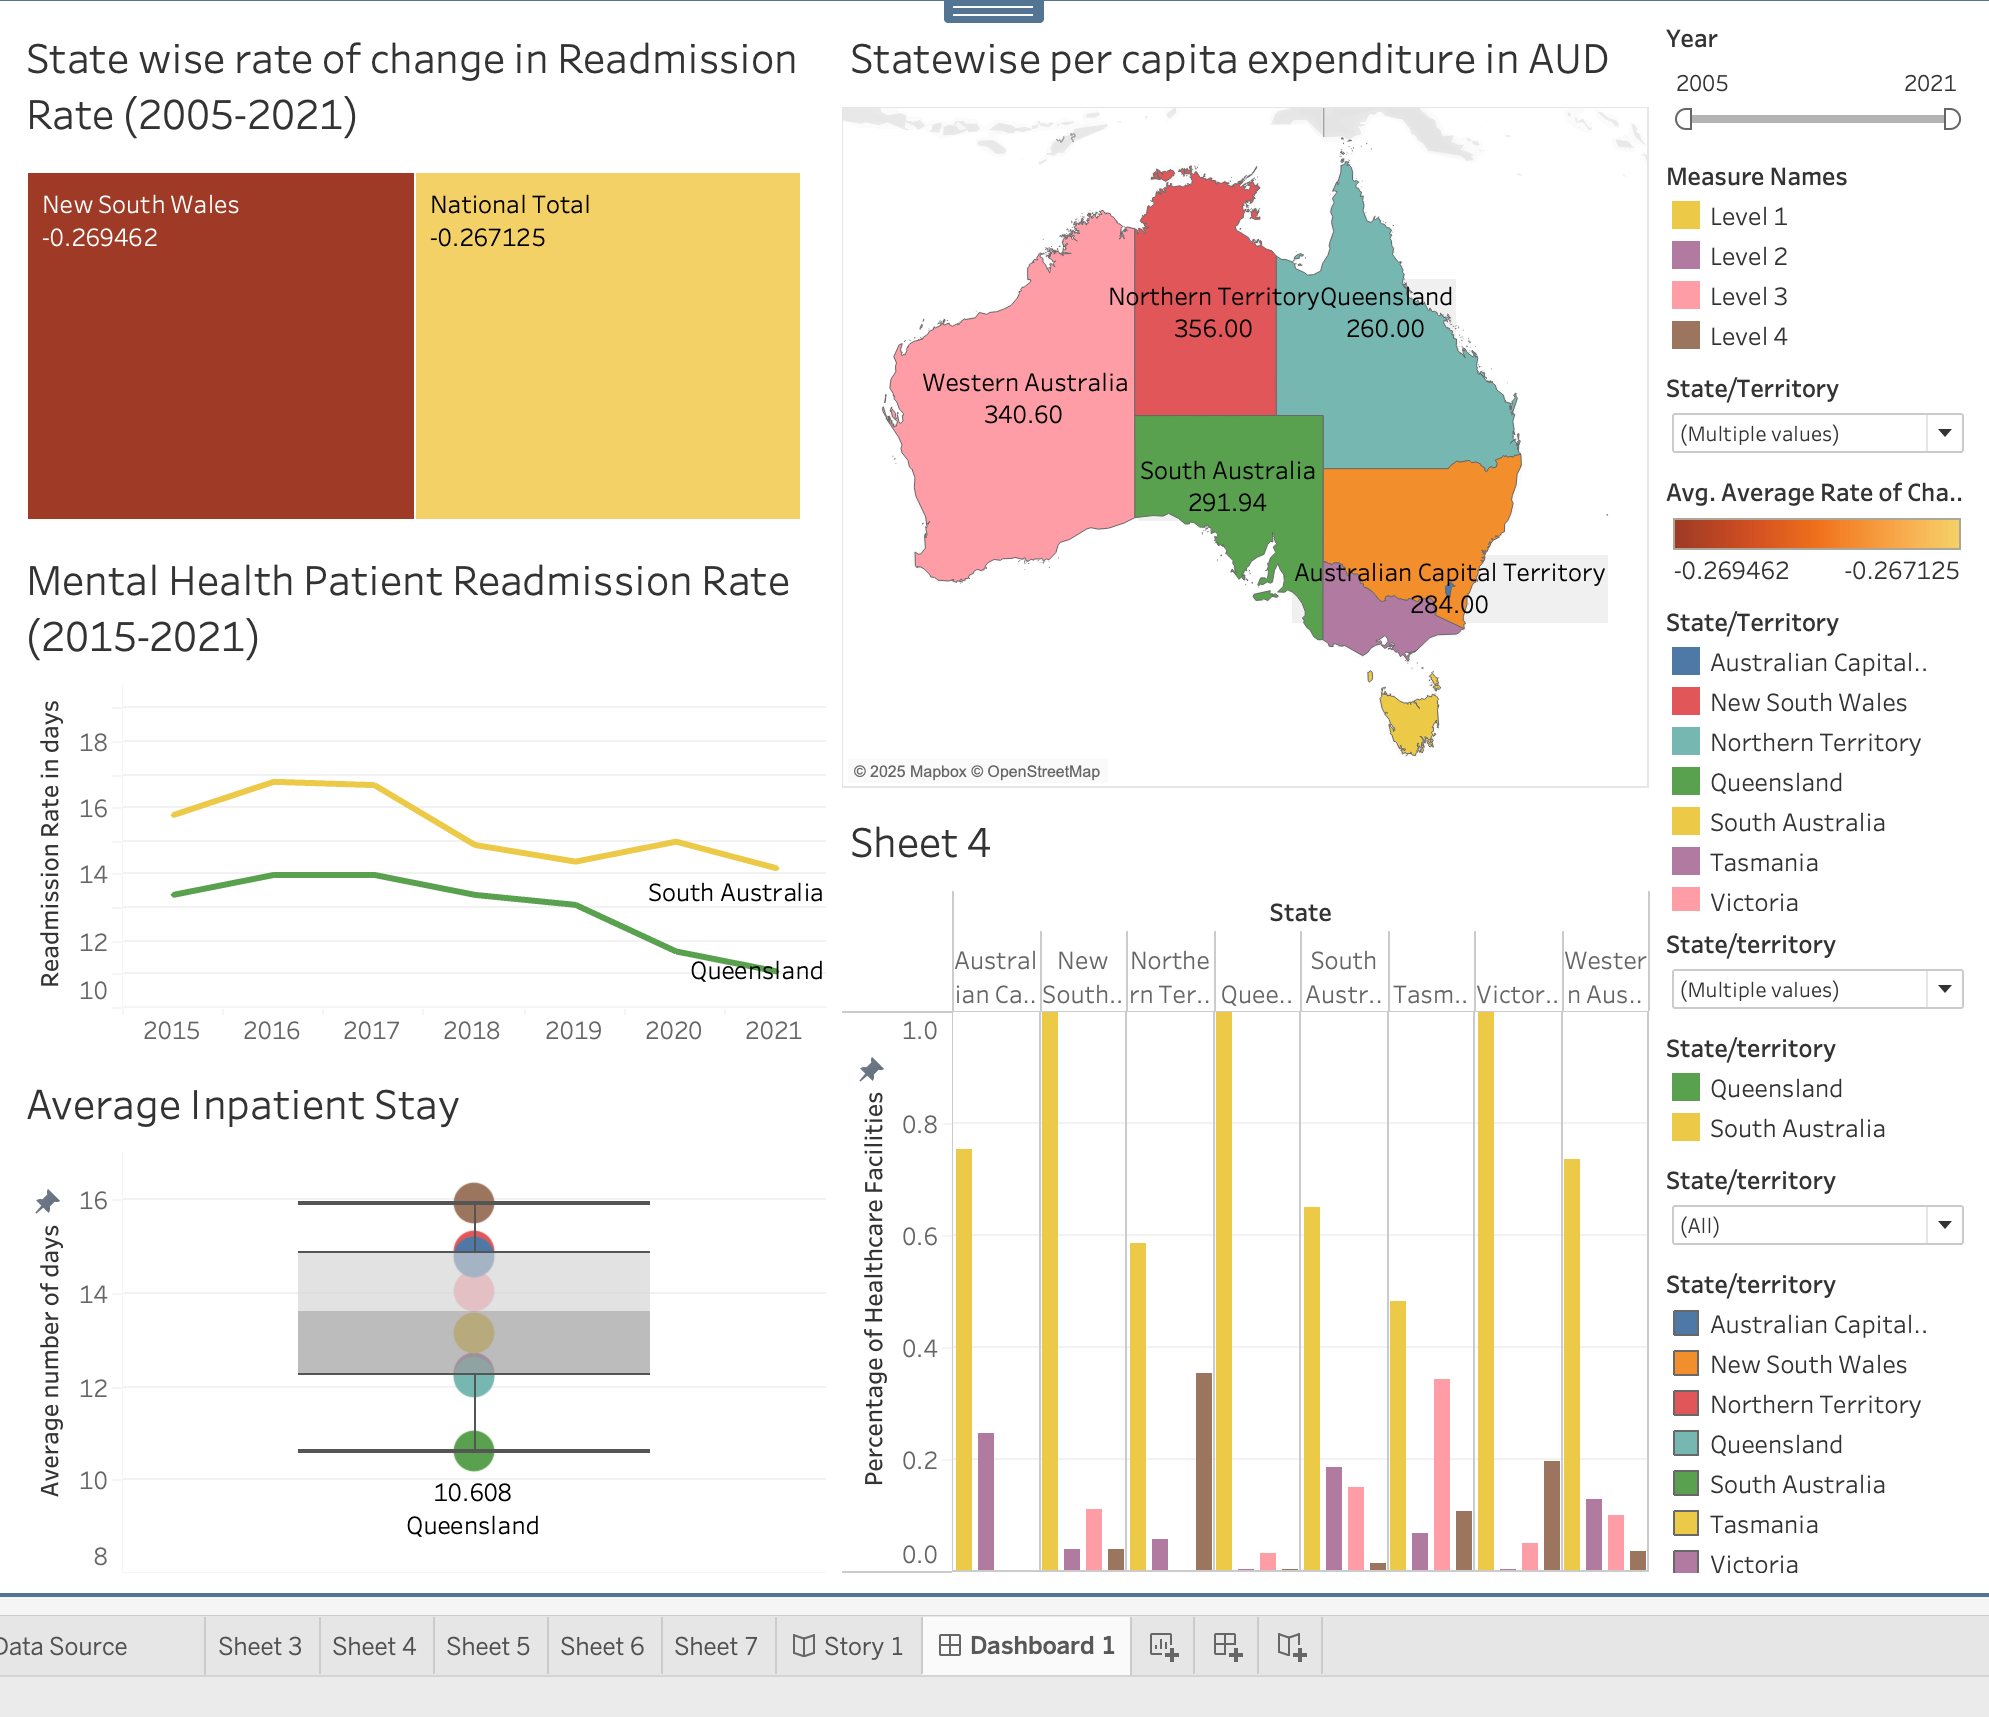

What the dashboard file says about the page in this screenshot:
{"tool":"tableau","page":{"name":"Dashboard 1","canvas":[1000,800],"ordinal":0},"visuals":[{"type":"worksheet","title":"Sheet 5","mark":"Automatic","box":[8,8,412,261.3]},{"type":"worksheet","title":"Sheet 6","mark":"Automatic","box":[420,8,412,392]},{"type":"filter","title":"Sheet 4","param":"[federated.1kzadxt06hhx891dd71gr1am9muh].[none:Year:qk]","box":[832,8,160,69]},{"type":"legend","title":"Sheet 4","param":"[federated.1kzadxt06hhx891dd71gr1am9muh].[:Measure Names]","box":[832,77,160,106]},{"type":"filter","title":"Sheet 5","param":"[federated.1lcbsc41rgcgp50zuspx01h38q71].[none:state/territory:nk]","box":[832,183,160,52]},{"type":"legend","title":"Sheet 5","param":"[federated.1lcbsc41rgcgp50zuspx01h38q71].[avg:Average Rate of Change:qk]","box":[832,235,160,65]},{"type":"worksheet","title":"Sheet 3","mark":"Line","rows":["Readmission Rate"],"cols":["Year"],"box":[8,269.3,412,261.3]},{"type":"legend","title":"Sheet 7","param":"[federated.1vtnh7v059665u1d0e4pc1c48qg1].[none:State/Territory:nk]","box":[832,300,160,161]},{"type":"worksheet","title":"Sheet 4","mark":"Bar","cols":["State/territory"],"box":[420,400,412,392]},{"type":"filter","title":"Sheet 3","param":"[federated.0u7egpf1g2kmwn1expn6g02en4vj].[none:State/territory:nk]","box":[832,461,160,52]},{"type":"legend","title":"Sheet 3","param":"[federated.0u7egpf1g2kmwn1expn6g02en4vj].[none:State/territory:nk]","box":[832,513,160,66]},{"type":"worksheet","title":"Sheet 7","mark":"Circle","rows":["Average inpatient stay"],"box":[8,530.7,412,261.3]},{"type":"filter","title":"Sheet 6","param":"[federated.0hd5p5e0vvxl661f3z8wq109si8i].[none:State/territory:nk]","box":[832,579,160,52]},{"type":"legend","title":"Sheet 6","param":"[federated.0hd5p5e0vvxl661f3z8wq109si8i].[attr:State/territory:nk]","box":[832,631,160,161]}]}

Visuals, with their boxes in screenshot pixels (x1, y1, x2, y2):
"Sheet 5" worksheet: bbox=(52, 52, 860, 564)
"Sheet 6" worksheet: bbox=(860, 52, 1668, 821)
"Sheet 4" filter: bbox=(1668, 52, 1982, 187)
"Sheet 4" legend: bbox=(1668, 187, 1982, 395)
"Sheet 5" filter: bbox=(1668, 395, 1982, 497)
"Sheet 5" legend: bbox=(1668, 497, 1982, 625)
"Sheet 3" worksheet (Line marks): bbox=(52, 564, 860, 1077)
"Sheet 7" legend: bbox=(1668, 625, 1982, 941)
"Sheet 4" worksheet (Bar marks): bbox=(860, 821, 1668, 1590)
"Sheet 3" filter: bbox=(1668, 941, 1982, 1043)
"Sheet 3" legend: bbox=(1668, 1043, 1982, 1172)
"Sheet 7" worksheet (Circle marks): bbox=(52, 1077, 860, 1590)
"Sheet 6" filter: bbox=(1668, 1172, 1982, 1274)
"Sheet 6" legend: bbox=(1668, 1274, 1982, 1590)
